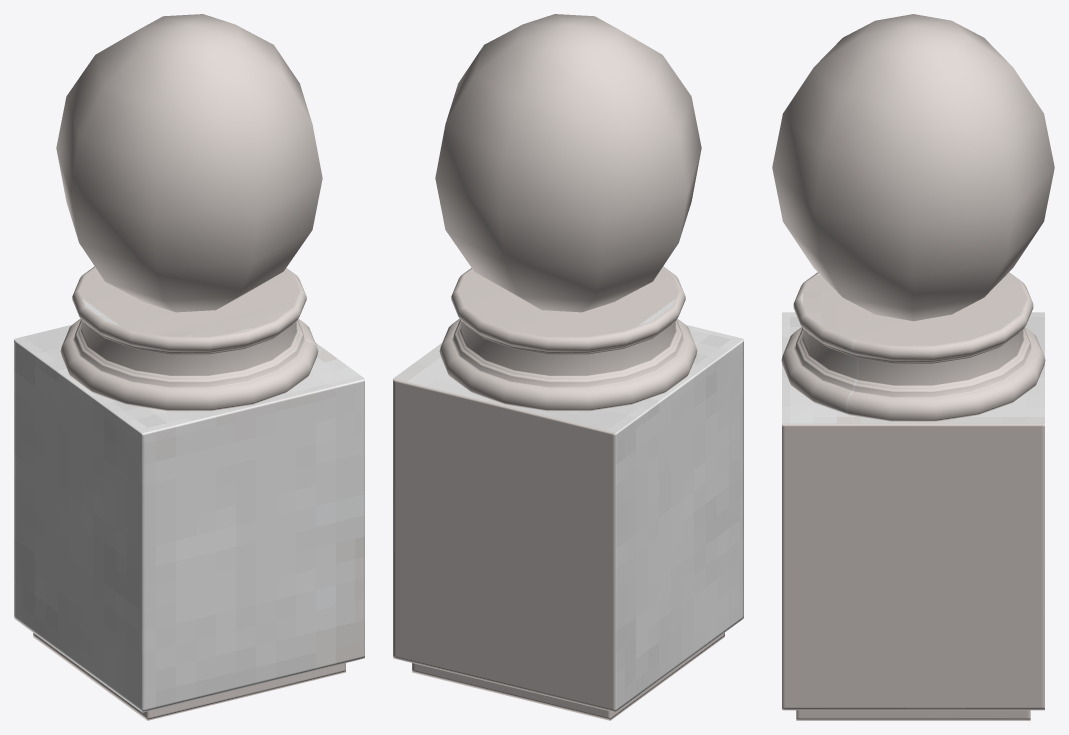
The model's file is a_com_building_b01_pedestal01.gltf.
3 views of the same model, side by side, from view 1: azimuth 30°, elevation 25°; view 2: azimuth 150°, elevation 25°; view 3: azimuth 270°, elevation 25° (orthographic). The views are drawn at different scales.
Parts seen in each view (by area): view 1: um_a_com_building_b01_pedestal01_model_a_com_building_b01_pe; view 2: um_a_com_building_b01_pedestal01_model_a_com_building_b01_pe; view 3: um_a_com_building_b01_pedestal01_model_a_com_building_b01_pe.
Part boxes in pixels (x1,y1,x2,y2): um_a_com_building_b01_pedestal01_model_a_com_building_b01_pe: (14,14,364,720); um_a_com_building_b01_pedestal01_model_a_com_building_b01_pe: (393,14,743,720); um_a_com_building_b01_pedestal01_model_a_com_building_b01_pe: (772,14,1054,720).
Size of the model in its own units: 0.7591 by 1.91 by 0.7591.
1 material, 1 textured.
